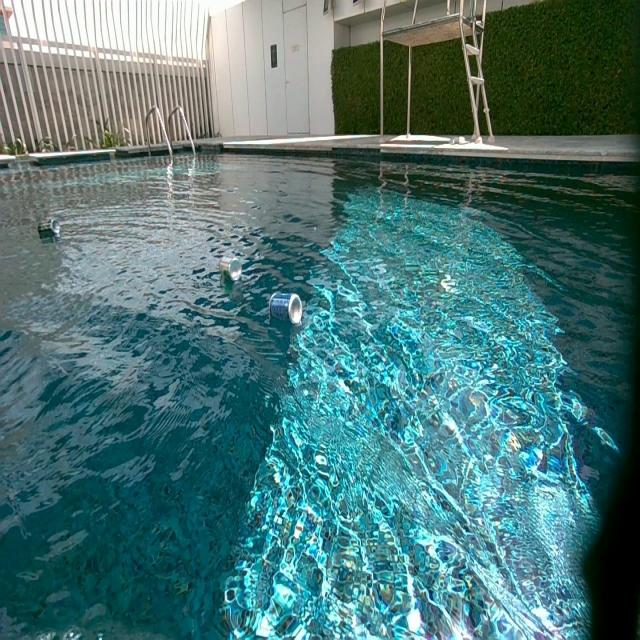Cans: (269, 294, 303, 328), (222, 259, 242, 284), (42, 218, 60, 235)
